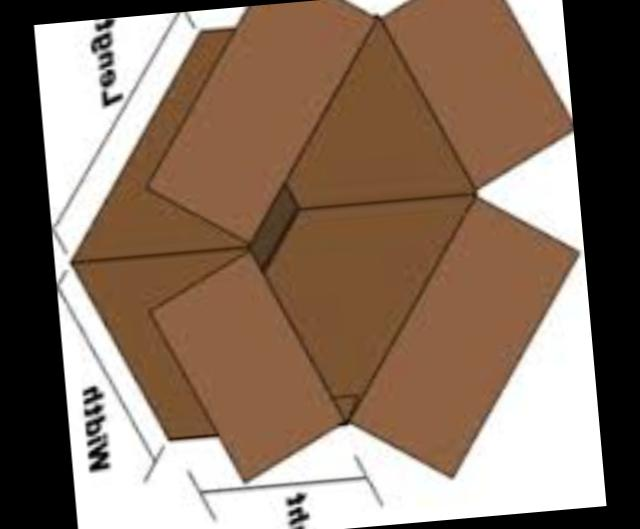cardboard paper: (79, 0, 579, 479)
